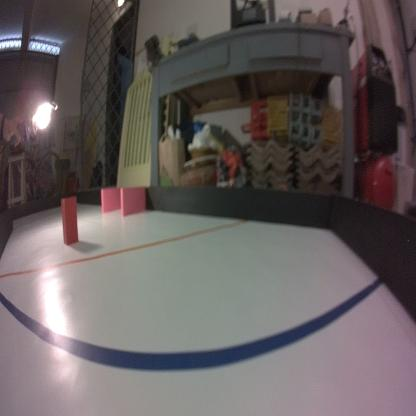magenta: (119, 186, 146, 220), (99, 185, 125, 212)
red: (59, 195, 78, 248)
